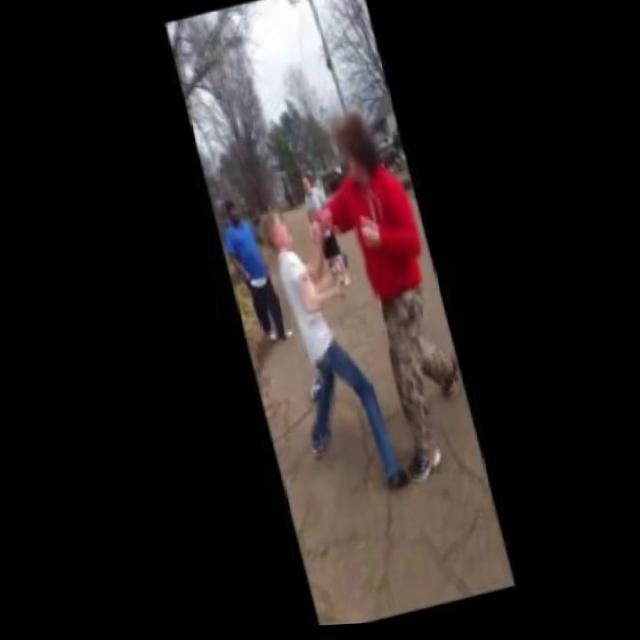fight: (237, 112, 459, 508)
